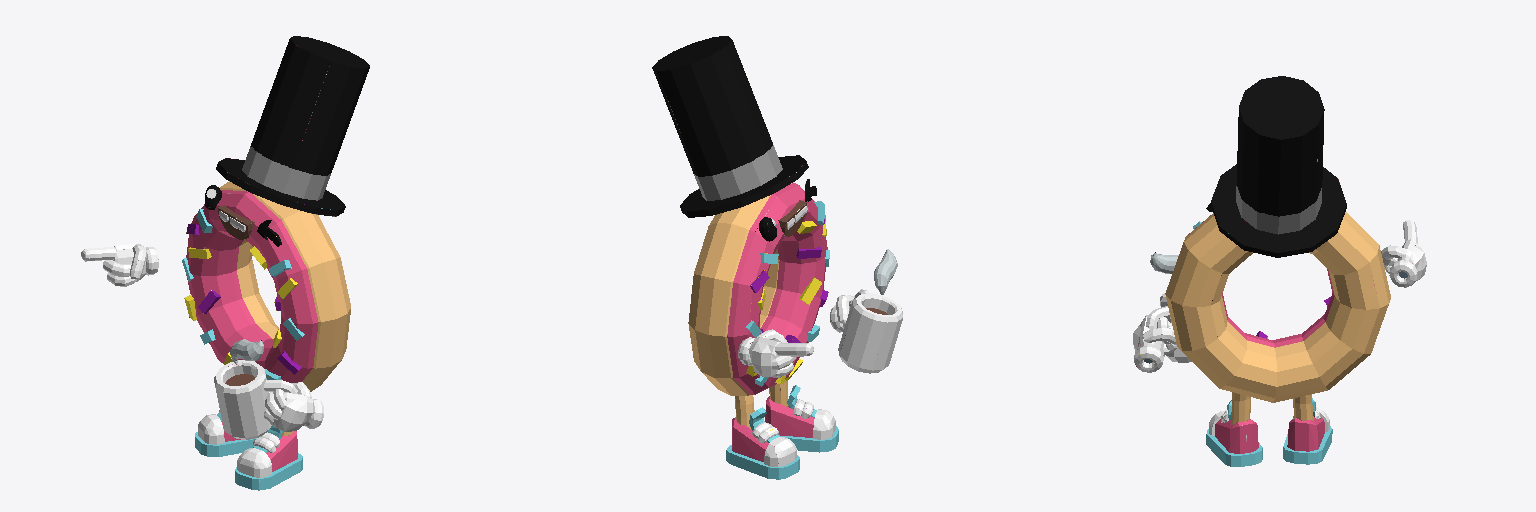
3 views of the same model, side by side, from view 1: azimuth 30°, elevation 25°; view 2: azimuth 150°, elevation 25°; view 3: azimuth 270°, elevation 25° (orthographic).
Parts seen in each view (by area): view 1: Dounat_mesh[number redacted]; view 2: Dounat_mesh[number redacted]; view 3: Dounat_mesh[number redacted].
Part boxes in pixels (x1,y1,x2,y2): Dounat_mesh[number redacted]: (81,36,369,490); Dounat_mesh[number redacted]: (652,36,902,479); Dounat_mesh[number redacted]: (1133,76,1426,466).
Bounding box in the file's own units: 3.35 × 5.89 × 3.92.
1 materials, 1 textured.